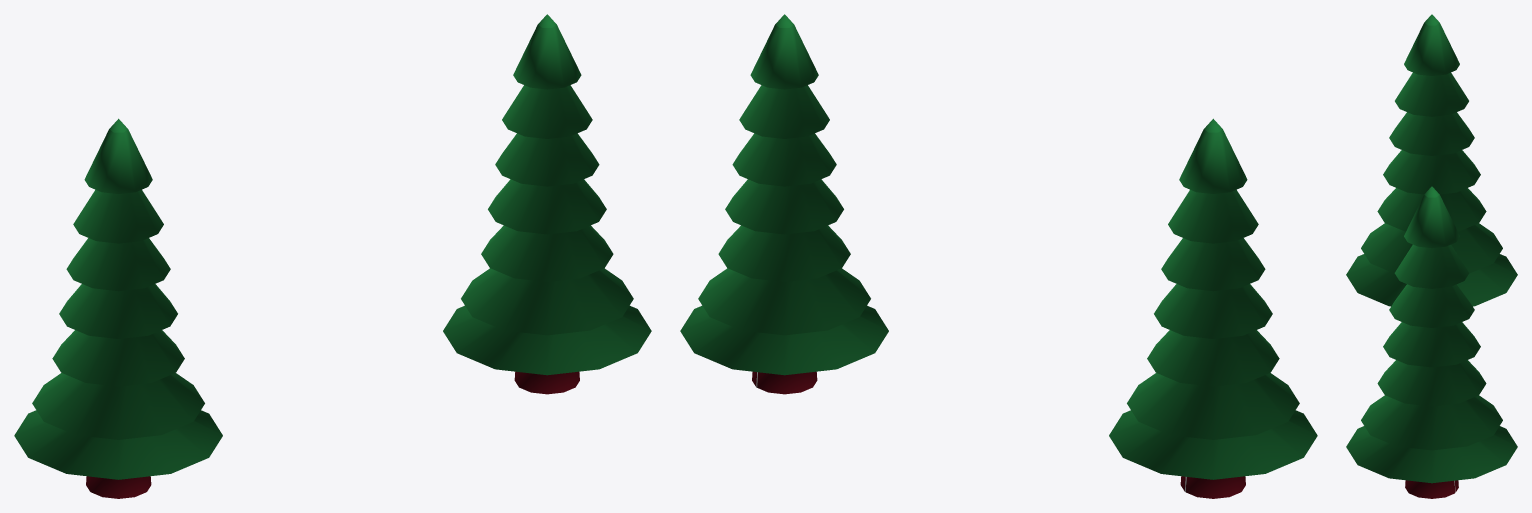
File: trees.fbx
3 renders of one model, left to right at view 1: azimuth 30°, elevation 25°; view 2: azimuth 150°, elevation 25°; view 3: azimuth 270°, elevation 25°, orthographic. The views are drawn at different scales.
Parts seen in each view (by area): view 1: Cylinder035, Cylinder034; view 2: Cylinder035, Cylinder034; view 3: Cylinder035, Cylinder034.
Boxes of the visible parts, x1,y1,x2,y2 form: Cylinder035: (443,14,651,394); Cylinder034: (14,118,222,498); Cylinder035: (680,14,888,394); Cylinder034: (1109,118,1317,498); Cylinder035: (1346,186,1517,498); Cylinder034: (1346,14,1517,306).
Size of the model in its own units: 16.62 by 9.55 by 4.93.
1 material, 1 textured.
